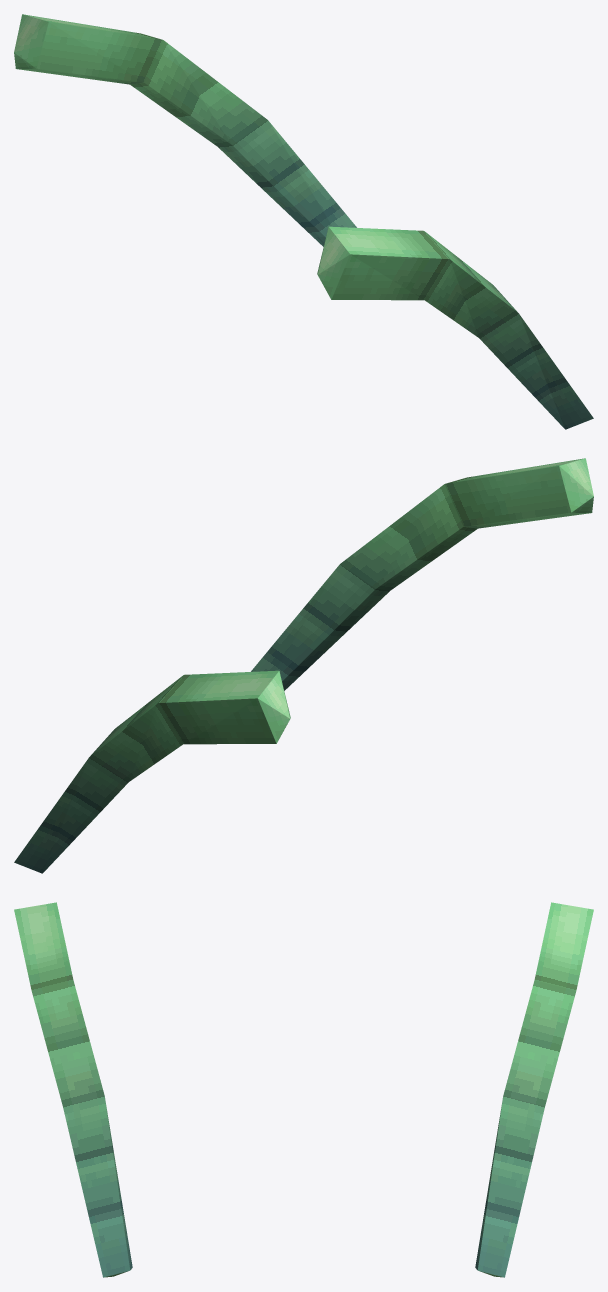
File: Sheep_bugAntenna.obj
3 renders of one model, top to bottom at view 1: azimuth 30°, elevation 25°; view 2: azimuth 150°, elevation 25°; view 3: azimuth 270°, elevation 25°, orthographic. The views are drawn at different scales.
Visible parts, largest first — view 1: Sheep_bugAntenna_tri; view 2: Sheep_bugAntenna_tri; view 3: Sheep_bugAntenna_tri.
Boxes of the visible parts, x1,y1,x2,y2 form: Sheep_bugAntenna_tri: (14, 14, 593, 429); Sheep_bugAntenna_tri: (14, 458, 593, 873); Sheep_bugAntenna_tri: (14, 902, 593, 1277).
Bounding box in the file's own units: 0.0911 × 0.0809 × 0.1647.
1 material, 1 textured.
